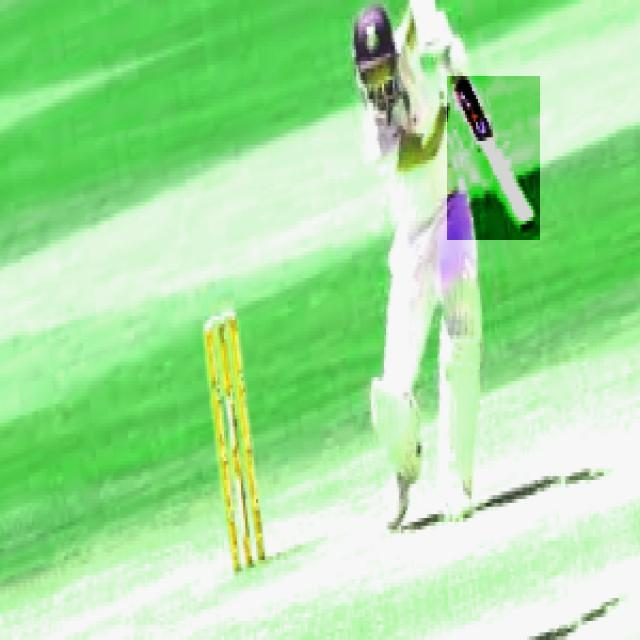bat: (449, 75, 541, 240)
